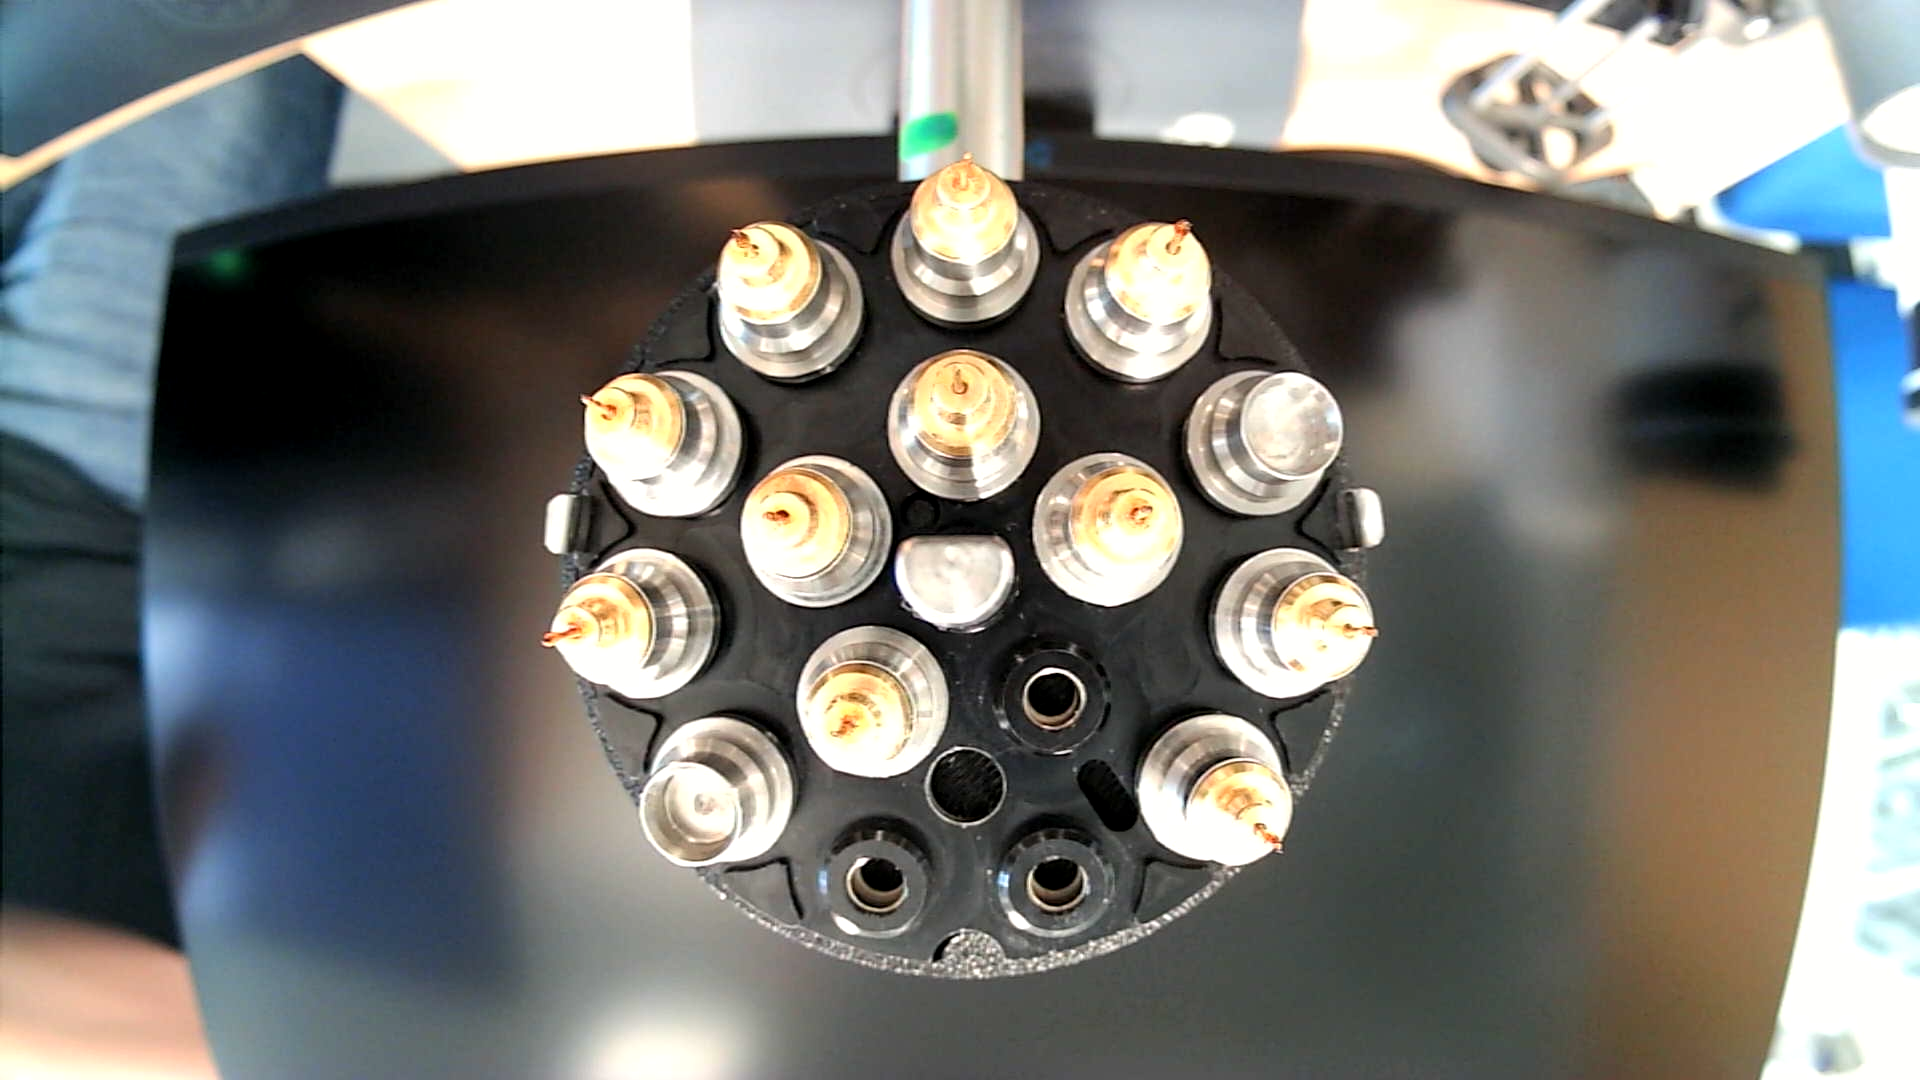adapter: (1180, 363, 1342, 520), (638, 715, 796, 874)
empty: (811, 814, 948, 947), (985, 818, 1117, 952), (982, 632, 1120, 761)
hole: (924, 742, 1010, 833)
pin: (541, 547, 725, 702), (1207, 545, 1379, 702), (887, 152, 1040, 327), (578, 367, 746, 524), (711, 219, 866, 389), (1063, 214, 1215, 385), (1135, 708, 1296, 866), (884, 345, 1044, 502), (793, 625, 952, 782), (737, 451, 891, 611), (1030, 448, 1184, 607)
rod: (890, 530, 1021, 637)
